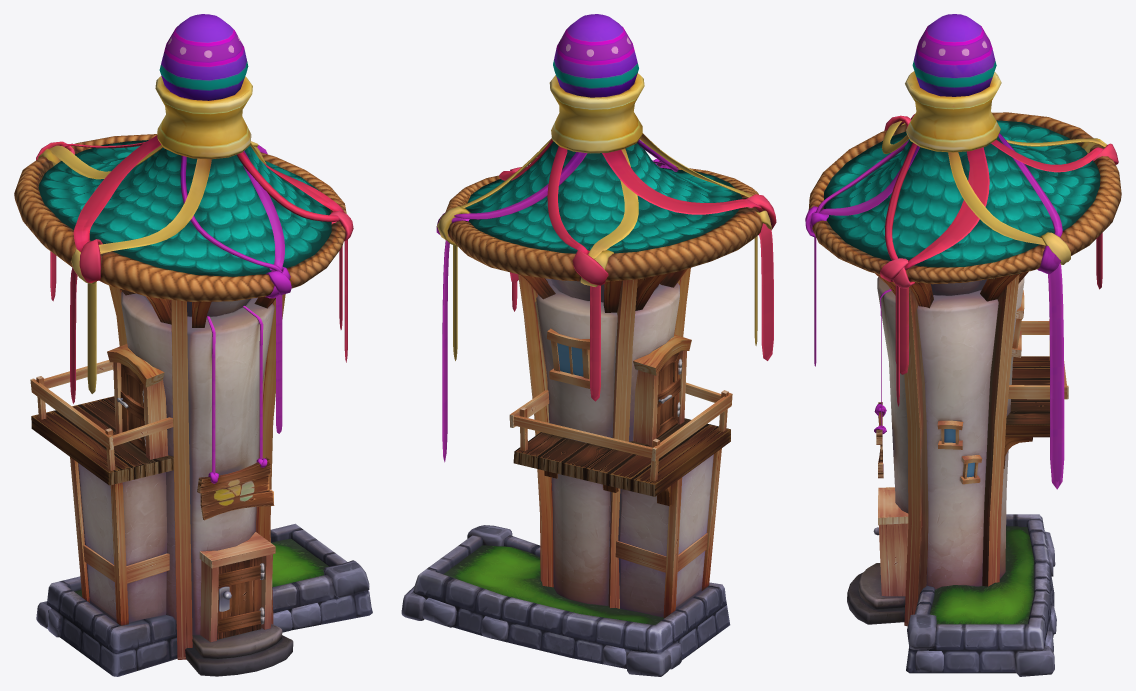
The model's file is SE_House_03.fbx.
3 views of the same model, side by side, from view 1: azimuth 30°, elevation 25°; view 2: azimuth 150°, elevation 25°; view 3: azimuth 270°, elevation 25° (orthographic). The views are drawn at different scales.
Parts seen in each view (by area): view 1: SE_House_03; view 2: SE_House_03; view 3: SE_House_03.
Part boxes in pixels (box(x1,y1,x2,y2)): SE_House_03: box(14, 14, 372, 676); SE_House_03: box(401, 14, 776, 676); SE_House_03: box(805, 14, 1121, 676).
Bounding box in the file's own units: 10.41 × 19.76 × 9.59.
